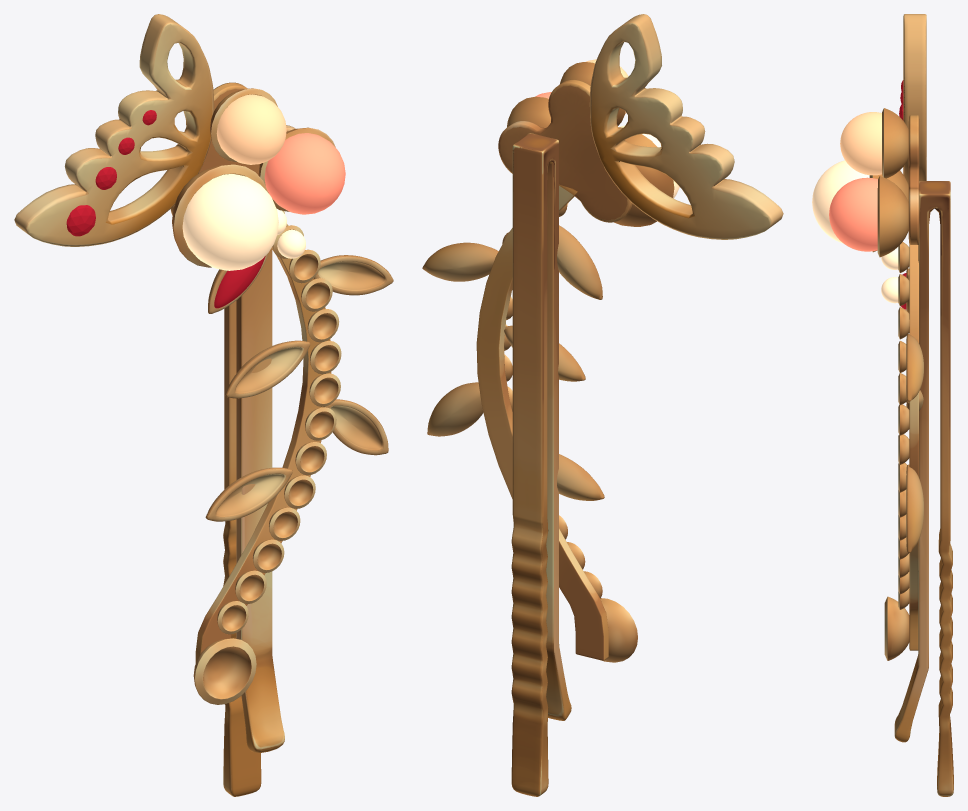
The picture shows the model from 3 angles, left to right: view 1: azimuth 30°, elevation 25°; view 2: azimuth 150°, elevation 25°; view 3: azimuth 270°, elevation 25°; orthographic projection. The views are drawn at different scales.
Visible parts, largest first — view 1: hairakuse; view 2: hairakuse; view 3: hairakuse.
Part boxes in pixels (bbox=[...]): hairakuse: bbox=[14, 14, 393, 796]; hairakuse: bbox=[422, 14, 783, 796]; hairakuse: bbox=[812, 14, 953, 796].
Size of the model in its own units: 72.64 by 152 by 26.6.
